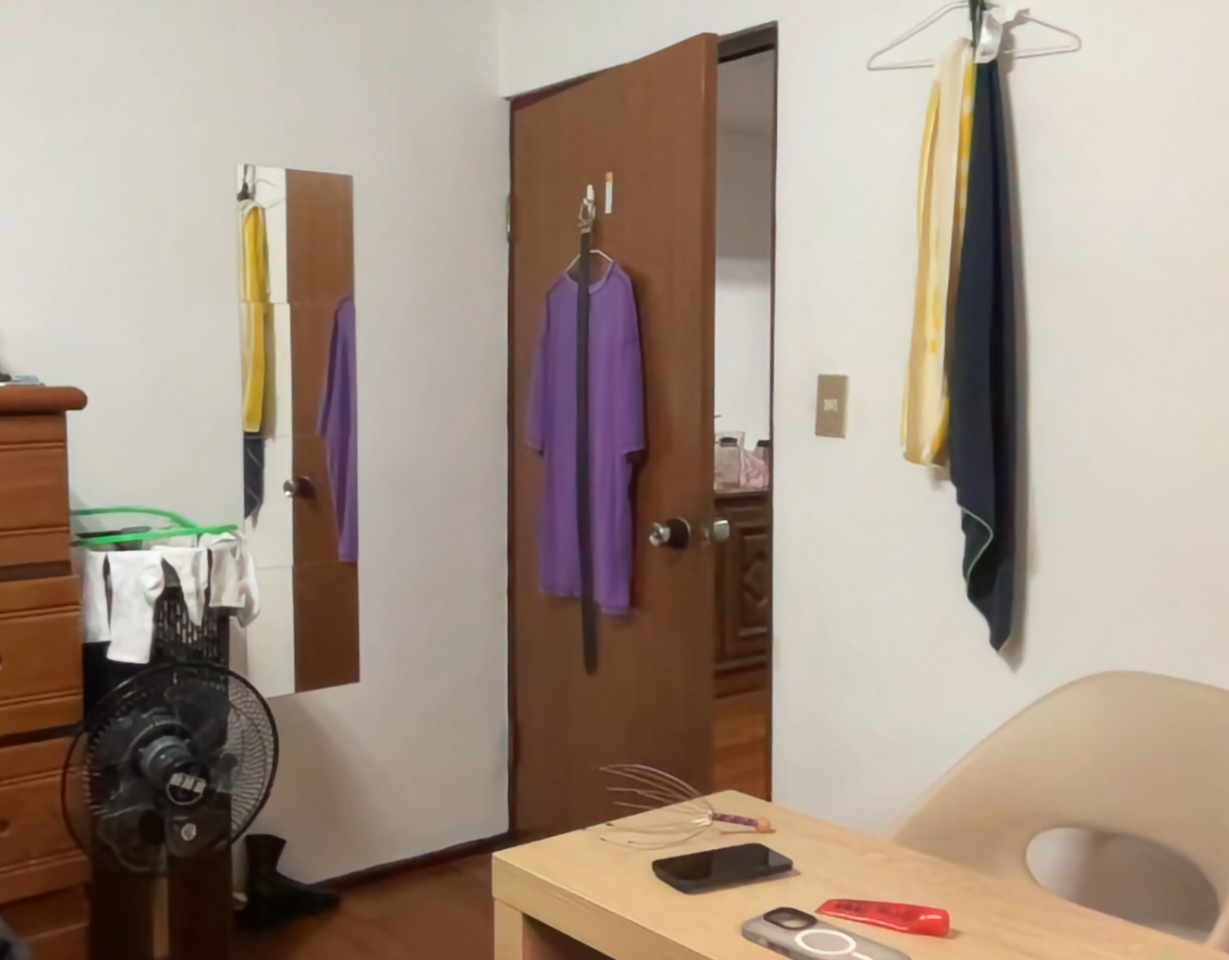Door Close: (492, 16, 849, 932)
